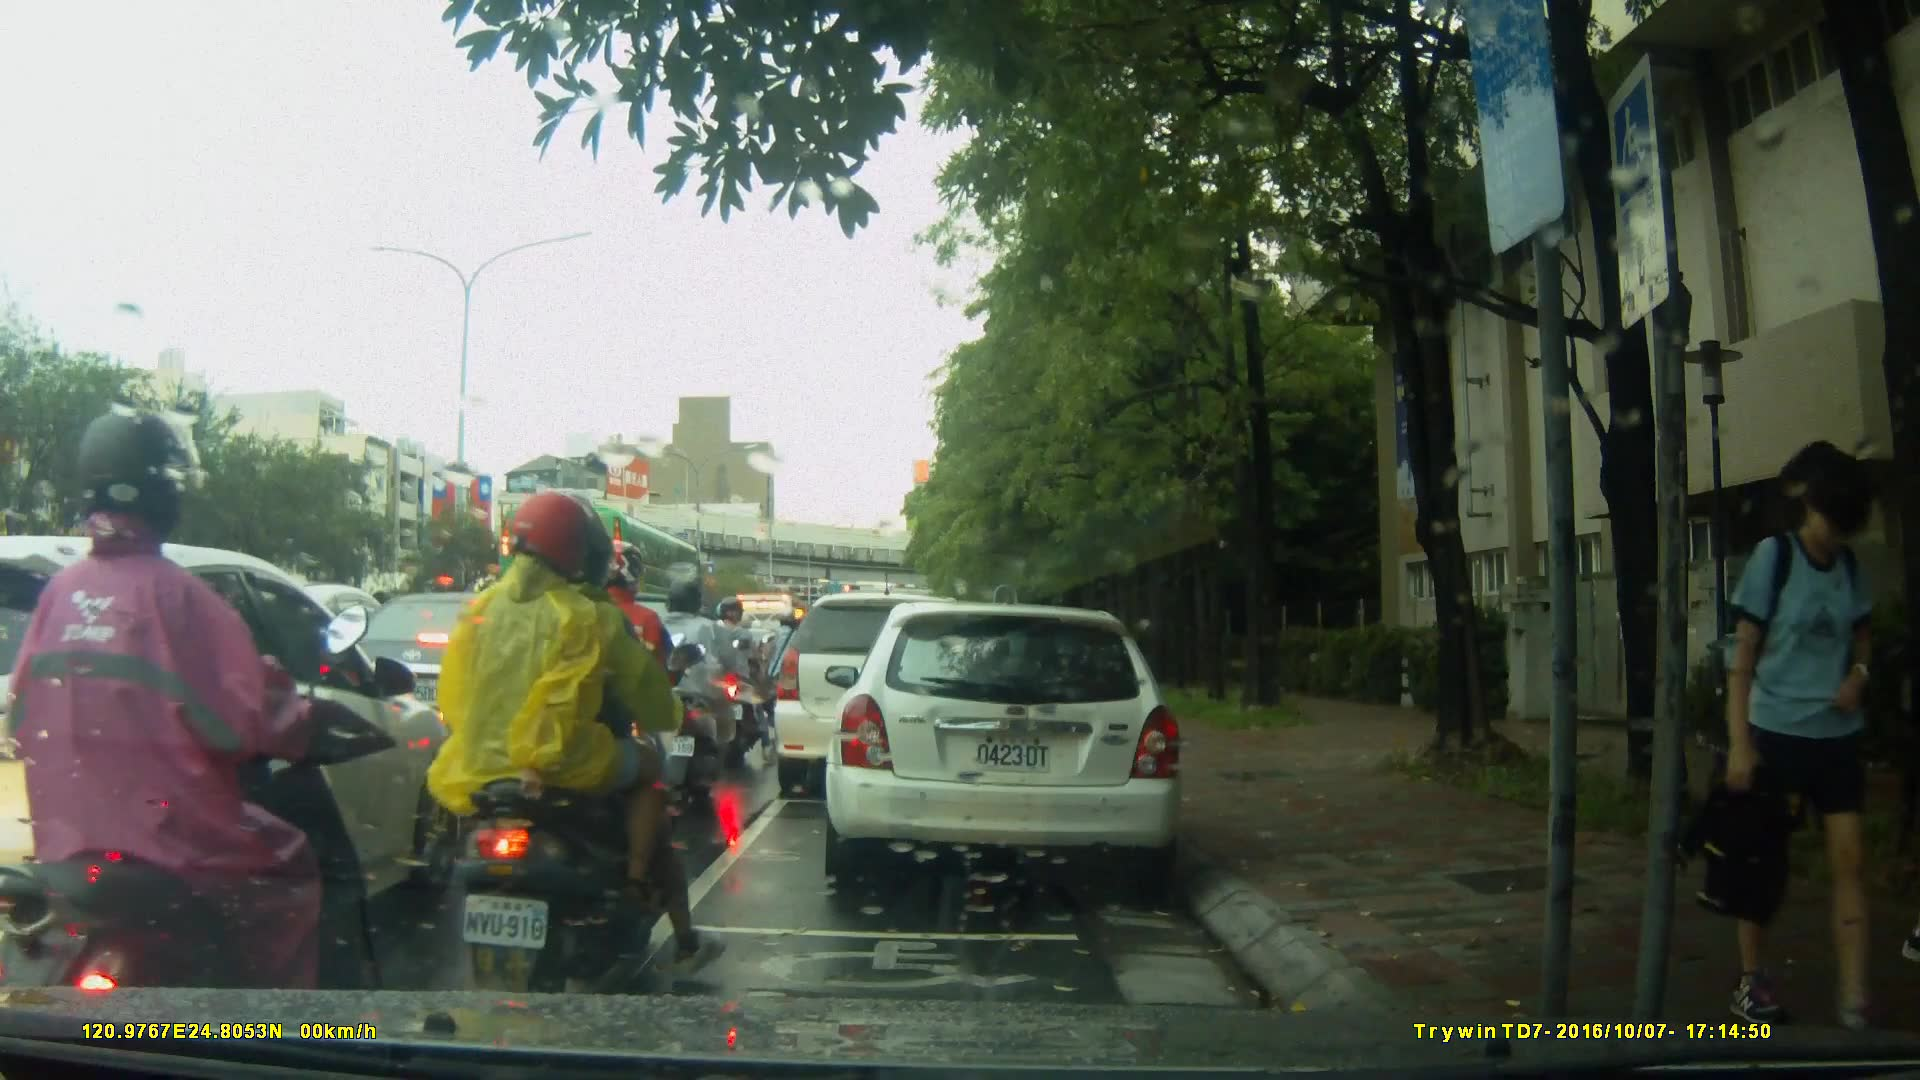pedestrian: (1700, 434, 1902, 1012), (1898, 498, 1920, 967)
rider: (5, 417, 402, 1063), (433, 492, 676, 1002), (553, 542, 687, 849), (645, 581, 741, 802), (709, 590, 770, 762), (763, 607, 816, 731)
vehicle: (3, 534, 462, 988), (831, 592, 1196, 897), (320, 590, 629, 776), (770, 590, 999, 804), (495, 499, 708, 636)
